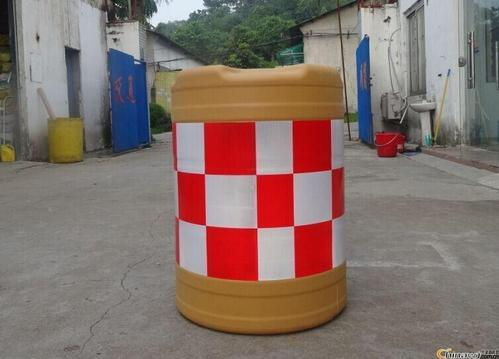sign: (165, 58, 355, 335)
